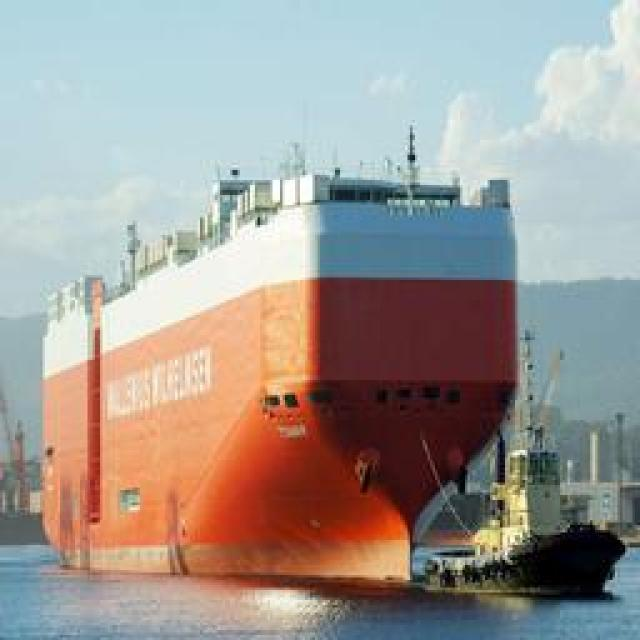Ship: (30, 154, 548, 584)
